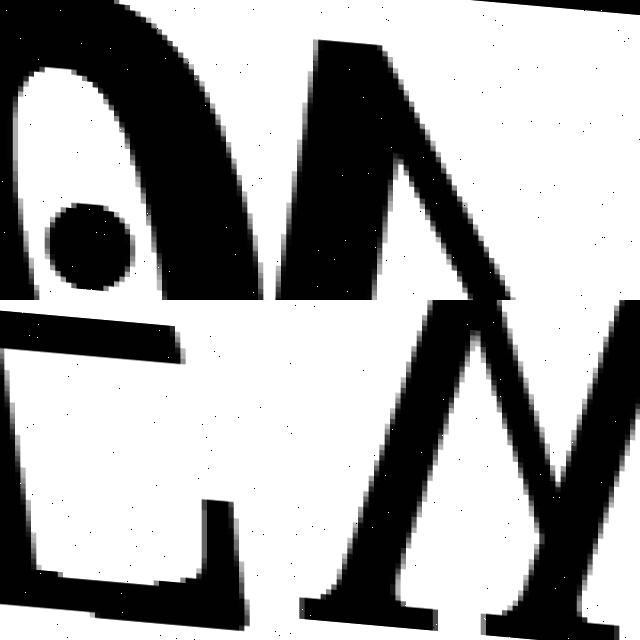0: (0, 0, 274, 300)
F: (0, 300, 250, 637)
V: (275, 19, 640, 300)
W: (288, 300, 640, 640)
